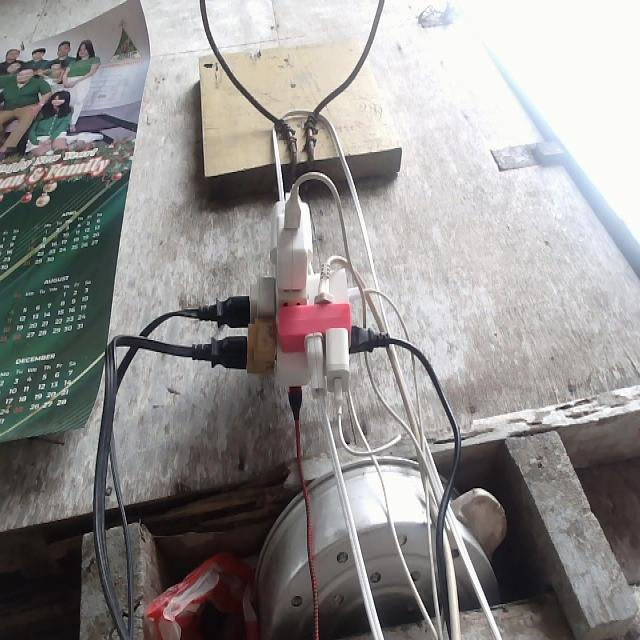-: (230, 179, 368, 409)
